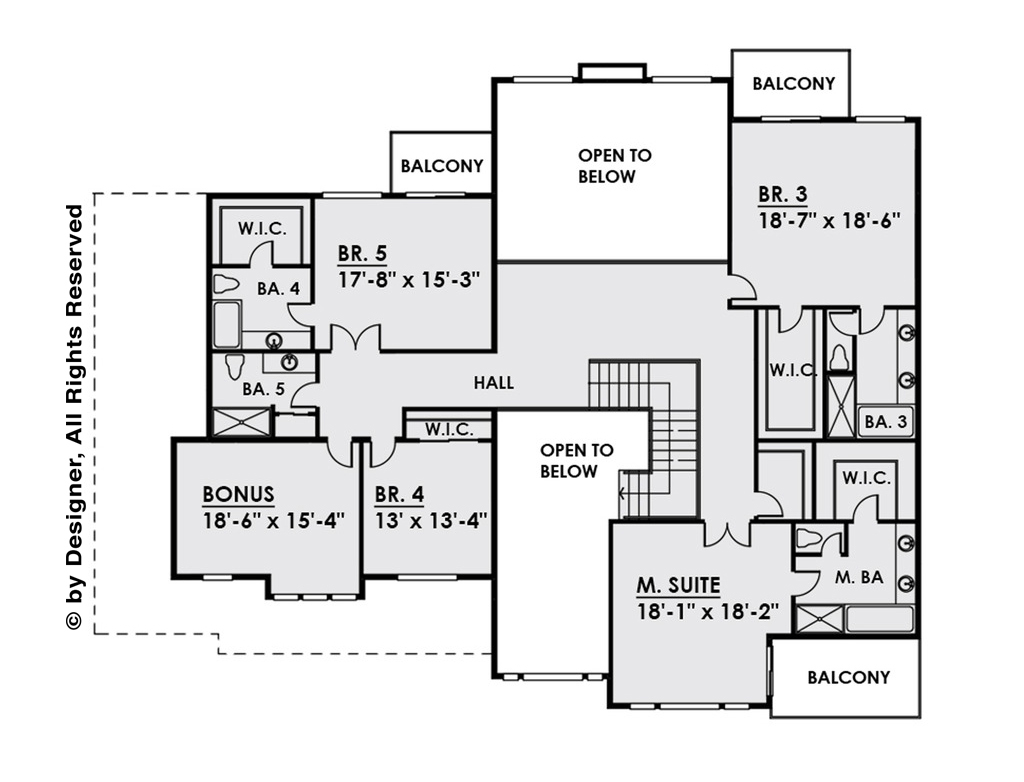door: (325, 322, 383, 353), (700, 519, 753, 550), (725, 268, 757, 303), (288, 380, 321, 413), (324, 436, 355, 470), (857, 304, 887, 339), (245, 239, 279, 269), (752, 488, 786, 518), (850, 493, 884, 523), (789, 566, 822, 595), (826, 309, 859, 337), (283, 299, 312, 330), (368, 437, 396, 469), (774, 306, 805, 330), (821, 531, 843, 554)
large_sink: (208, 269, 244, 297), (221, 350, 245, 383), (828, 340, 852, 371), (793, 523, 821, 549)
small_sink: (892, 522, 916, 610), (895, 313, 916, 401), (258, 354, 316, 377), (242, 330, 306, 349)
stairs: (587, 357, 702, 521)
tub: (210, 302, 245, 350)
windows: (621, 697, 752, 716), (495, 670, 606, 687), (265, 588, 356, 606), (394, 569, 465, 587), (509, 71, 574, 87), (318, 188, 383, 202), (650, 74, 712, 86), (193, 572, 237, 584)
